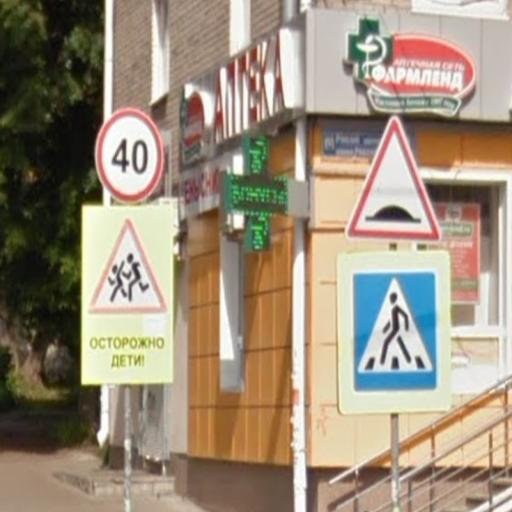traffic_sign: (337, 249, 454, 416), (346, 117, 443, 244), (89, 218, 167, 318), (95, 107, 165, 206)
